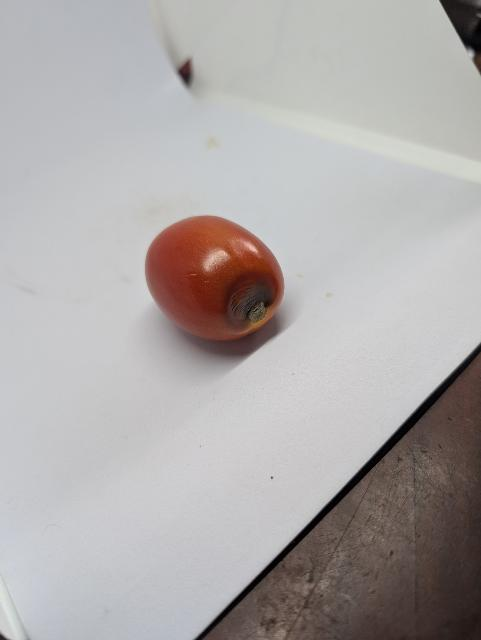defect: (142, 213, 287, 343)
